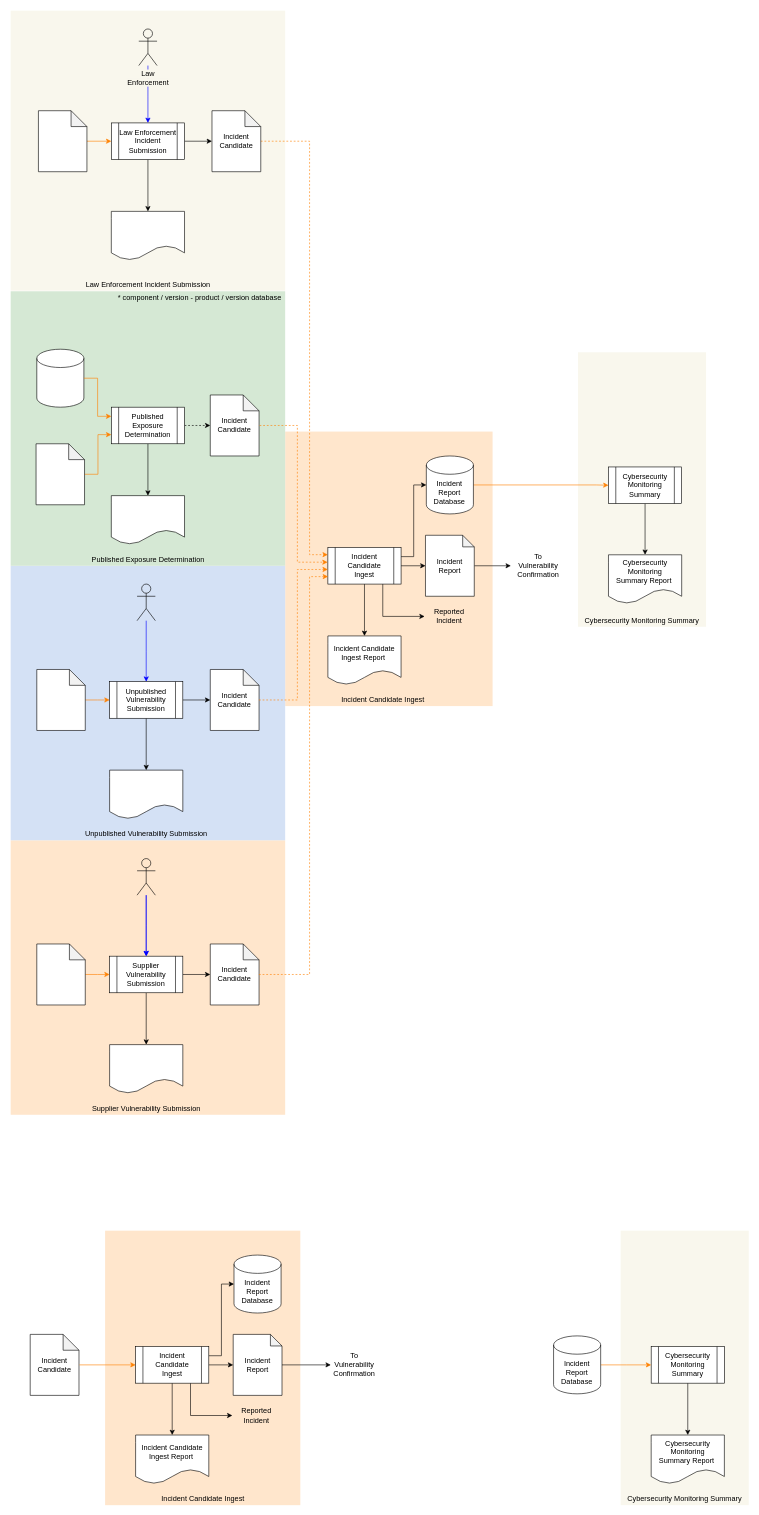
The diagram is 759 pixels wide and 1515 high, and some of its shapes have lost their labels. Here are the shapes that lost their labels. From the top down, the centre of each, then its label:
the point at 62,141: Law Enforcement Incident
the point at 148,235: Law Enforcement Incident Submission Report
the point at 60,378: CV - PV * cross-reference database
the point at 60,474: Published Vulnerability
the point at 148,519: Published Exposure Determination Report
the point at 145,602: Security Researcher
the point at 60,699: Unpublished Vulnerability
the point at 146,794: Unpublished Vulnerability Submission Report
the point at 145,876: Supplier
the point at 60,974: Supplier Identified Vulnerability
the point at 146,1068: Supplier Vulnerability Submission Report
